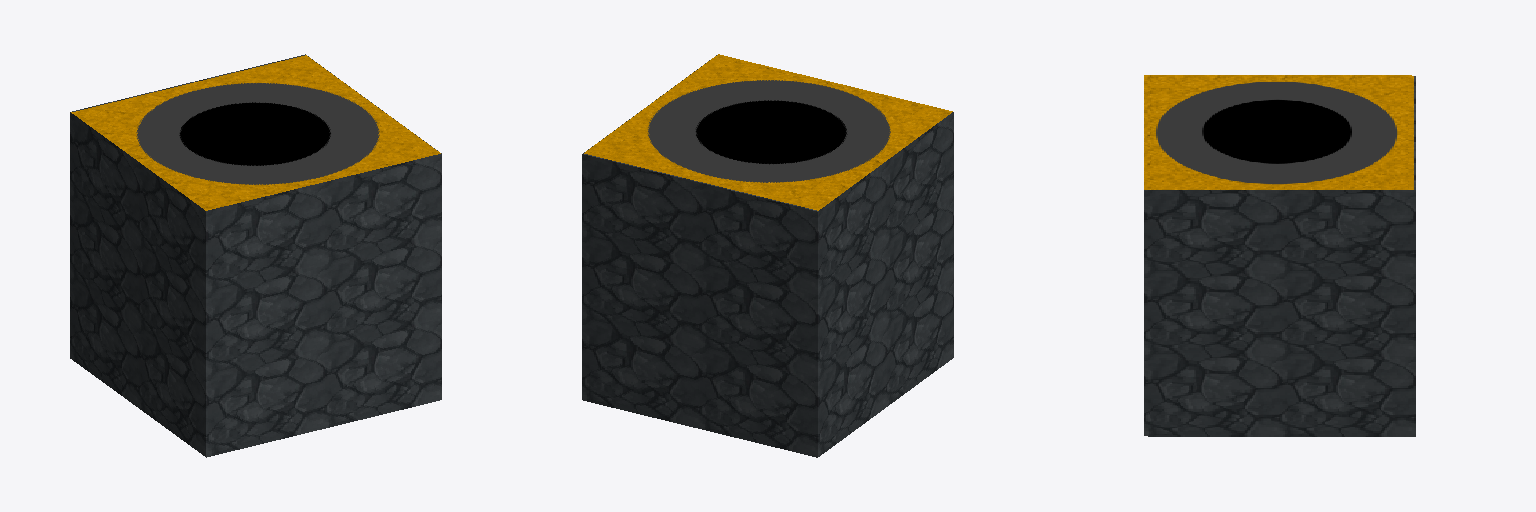
3 views of the same model, side by side, from view 1: azimuth 30°, elevation 25°; view 2: azimuth 150°, elevation 25°; view 3: azimuth 270°, elevation 25° (orthographic).
Parts seen in each view (by area): view 1: floor; view 2: floor; view 3: floor.
Part boxes in pixels (x1,y1,x2,y2): floor: (70,54,441,457); floor: (582,54,953,457); floor: (1144,75,1415,436).
Bounding box in the file's own units: 1 × 1 × 1.
Materials: 1 (1 with a texture image).